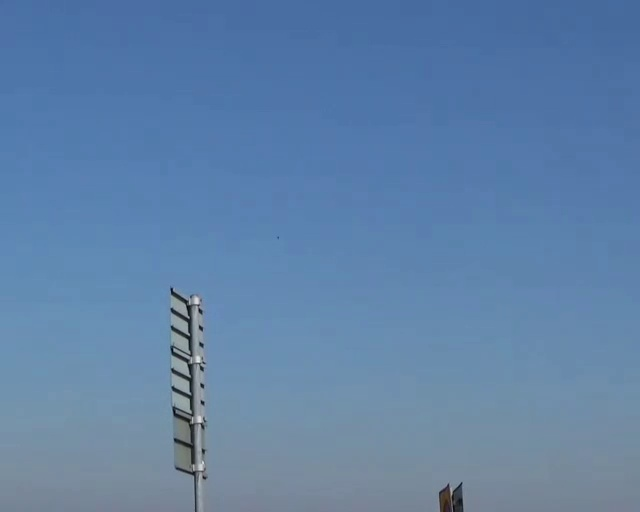BIRD: (274, 229, 284, 239)
